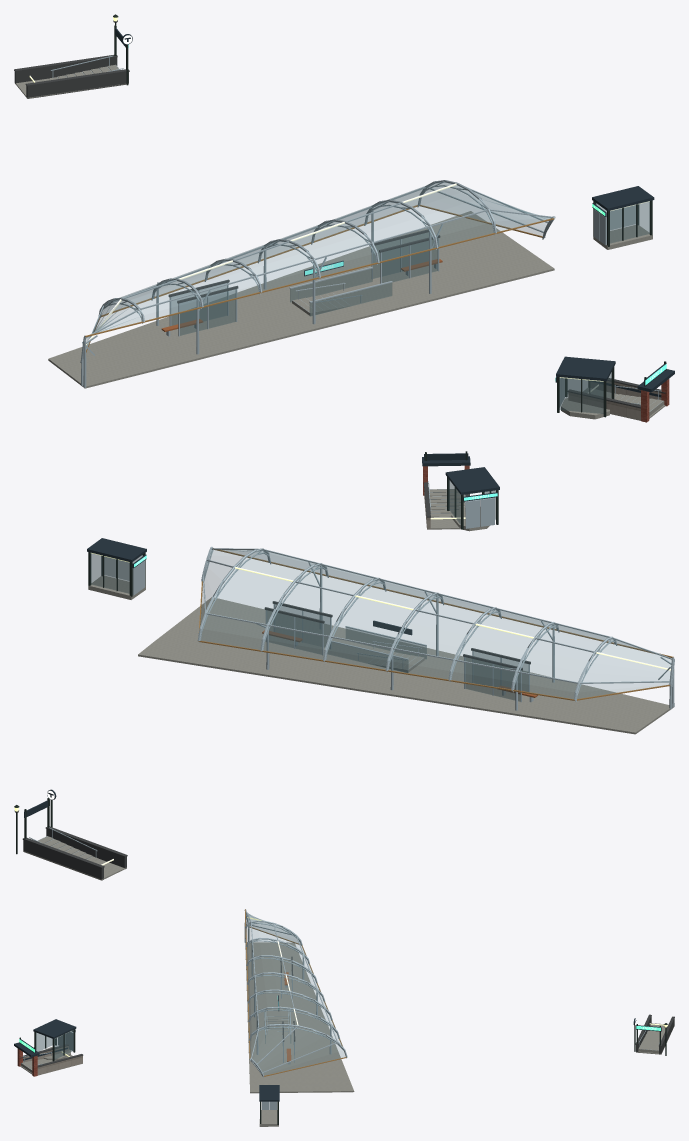
The model's file is place-kencl.glb.
3 views of the same model, one above another, from view 1: azimuth 30°, elevation 25°; view 2: azimuth 150°, elevation 25°; view 3: azimuth 270°, elevation 25° (orthographic). The views are drawn at different scales.
Visible parts, largest first — view 1: Kenmore Square busway.DeckConcrete, Kenmore Square busway.GlassRoof, Kenmore Square busway.Alloy, Kenmore Square busway.Glass, North stair.Gunmetal, Kenmore Square busway.Bronze, Kenmore south elevator.Glass, Busway elevator.Glass, South stair.BostonGranite, Kenmore south elevator.Iron, Busway elevator.Iron, Kenmore Square busway.Gunmetal (+3 smaller); view 2: Kenmore Square busway.GlassRoof, Kenmore Square busway.DeckConcrete, Kenmore Square busway.Alloy, Kenmore Square busway.Glass, North stair.Gunmetal, Kenmore Square busway.Bronze, Busway elevator.Glass, Kenmore south elevator.Iron, South stair.DeckConcrete, Busway elevator.Iron, North stair.DeckConcrete, Kenmore south elevator.Alloy (+3 smaller); view 3: Kenmore Square busway.DeckConcrete, Kenmore Square busway.GlassRoof, Kenmore Square busway.Alloy, Kenmore south elevator.Glass, South stair.BostonGranite, North stair.DeckConcrete, Kenmore Square busway.Bronze, Kenmore south elevator.Iron, North stair.Gunmetal, Busway elevator.Iron.
Boxes of the visible parts, left/top/right/bottom form: Kenmore Square busway.DeckConcrete: left=48, top=211, right=554, bottom=388; Kenmore Square busway.GlassRoof: left=86, top=182, right=551, bottom=345; Kenmore Square busway.Alloy: left=80, top=180, right=555, bottom=387; Kenmore Square busway.Glass: left=171, top=232, right=437, bottom=335; North stair.Gunmetal: left=14, top=20, right=129, bottom=98; Kenmore Square busway.Bronze: left=85, top=205, right=554, bottom=352; Kenmore south elevator.Glass: left=559, top=372, right=611, bottom=413; Busway elevator.Glass: left=596, top=201, right=649, bottom=243; South stair.BostonGranite: left=568, top=381, right=661, bottom=420; Kenmore south elevator.Iron: left=555, top=356, right=615, bottom=382; Busway elevator.Iron: left=592, top=186, right=654, bottom=217; Kenmore Square busway.Gunmetal: left=168, top=229, right=440, bottom=303; Kenmore Square busway.GlassRoof: left=200, top=548, right=671, bottom=698; Kenmore Square busway.DeckConcrete: left=138, top=597, right=673, bottom=734; Kenmore Square busway.Alloy: left=197, top=546, right=674, bottom=710; Kenmore Square busway.Glass: left=267, top=604, right=528, bottom=701; North stair.Gunmetal: left=14, top=810, right=127, bottom=880; Kenmore Square busway.Bronze: left=198, top=548, right=673, bottom=700; Busway elevator.Glass: left=90, top=553, right=142, bottom=593; Kenmore south elevator.Iron: left=445, top=467, right=499, bottom=501; South stair.DeckConcrete: left=429, top=489, right=465, bottom=529; Busway elevator.Iron: left=87, top=538, right=146, bottom=568; North stair.DeckConcrete: left=23, top=836, right=126, bottom=880; Kenmore south elevator.Alloy: left=465, top=497, right=494, bottom=528; Kenmore Square busway.DeckConcrete: left=245, top=942, right=354, bottom=1093; Kenmore Square busway.GlassRoof: left=246, top=912, right=345, bottom=1075; Kenmore Square busway.Alloy: left=244, top=909, right=347, bottom=1077; Kenmore south elevator.Glass: left=36, top=1030, right=73, bottom=1059; South stair.BostonGranite: left=23, top=1046, right=82, bottom=1075; North stair.DeckConcrete: left=636, top=1023, right=674, bottom=1054; Kenmore Square busway.Bronze: left=245, top=909, right=346, bottom=1076; Kenmore south elevator.Iron: left=33, top=1019, right=76, bottom=1038; North stair.Gunmetal: left=635, top=1014, right=674, bottom=1054; Busway elevator.Iron: left=259, top=1085, right=279, bottom=1101.
Size of the model in its own units: 51.29 by 6.57 by 77.77.
15 materials, 3 textured.
